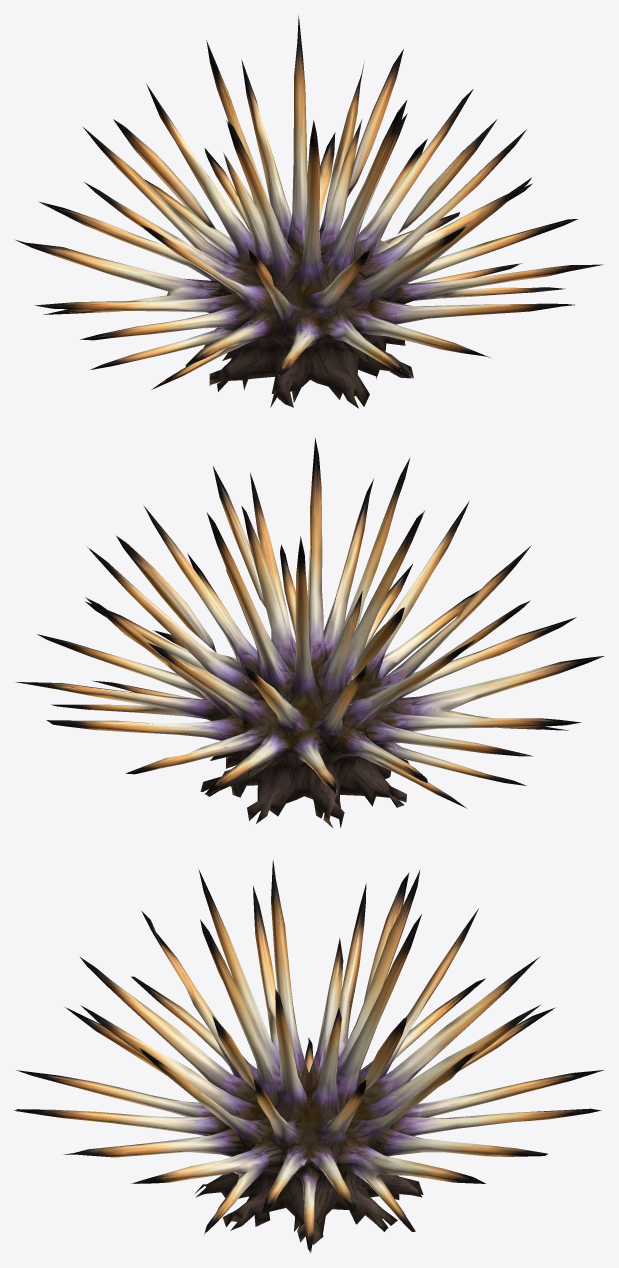
The picture shows the model from 3 angles, top to bottom: view 1: azimuth 30°, elevation 25°; view 2: azimuth 150°, elevation 25°; view 3: azimuth 270°, elevation 25°; orthographic projection. The views are drawn at different scales.
Visible parts, largest first — view 1: Mesh_0; view 2: Mesh_0; view 3: Mesh_0.
Boxes of the visible parts, <box> form: Mesh_0: <box>14,15,603,408</box>; Mesh_0: <box>15,438,604,827</box>; Mesh_0: <box>14,859,603,1253</box>.
Size of the model in its own units: 1.89 by 1.09 by 1.89.
Materials: 1 (1 with a texture image).
